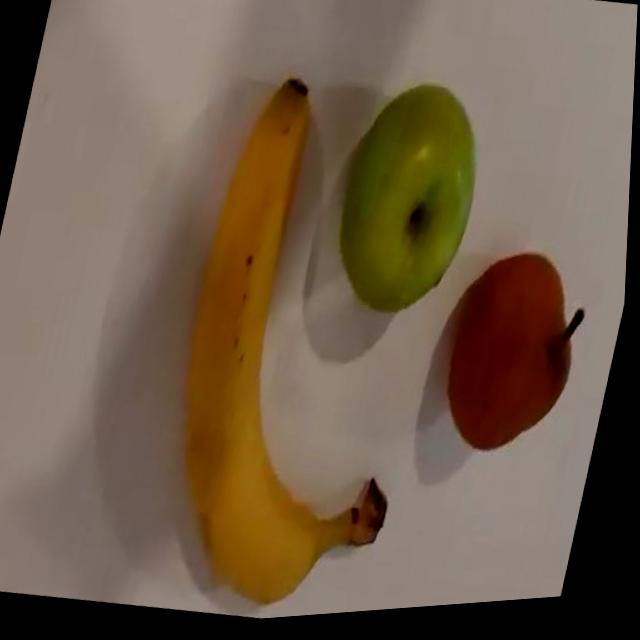Apple: (323, 78, 499, 334), (433, 247, 600, 476)
Banana: (139, 63, 481, 631)
